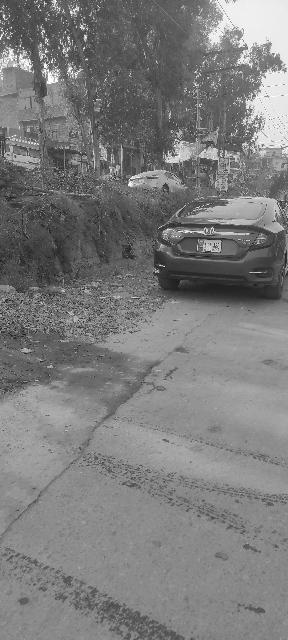Number: (203, 241, 221, 250)
